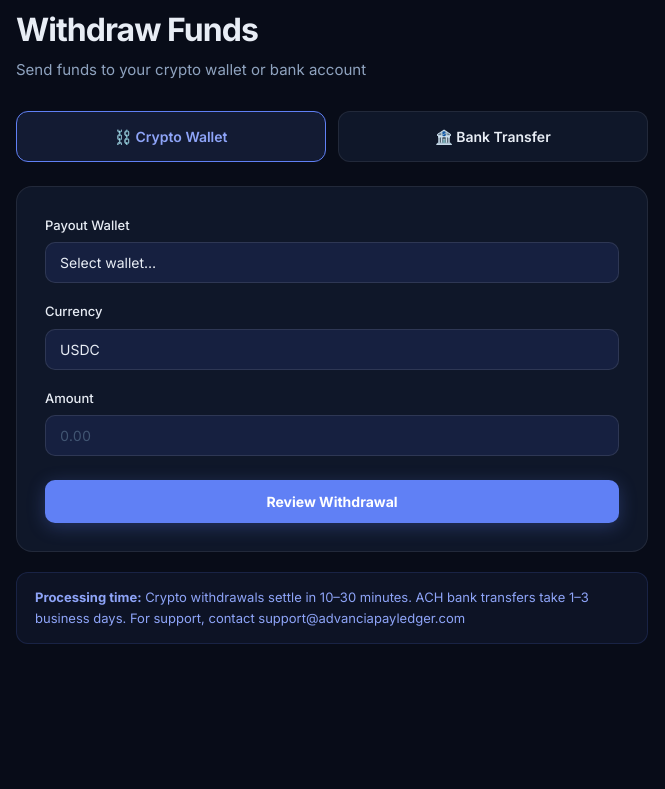
Test case: Withdraw › crypto form › validates missing amount
This screenshot has width=665, height=789.
// Select wallet
Step 1. Select "Main ETH — 0xabcdef…cdef12 (USDC) ★ Primary" in the dropdown below "Payout Wallet" → (332,263), box [45,242,619,283]
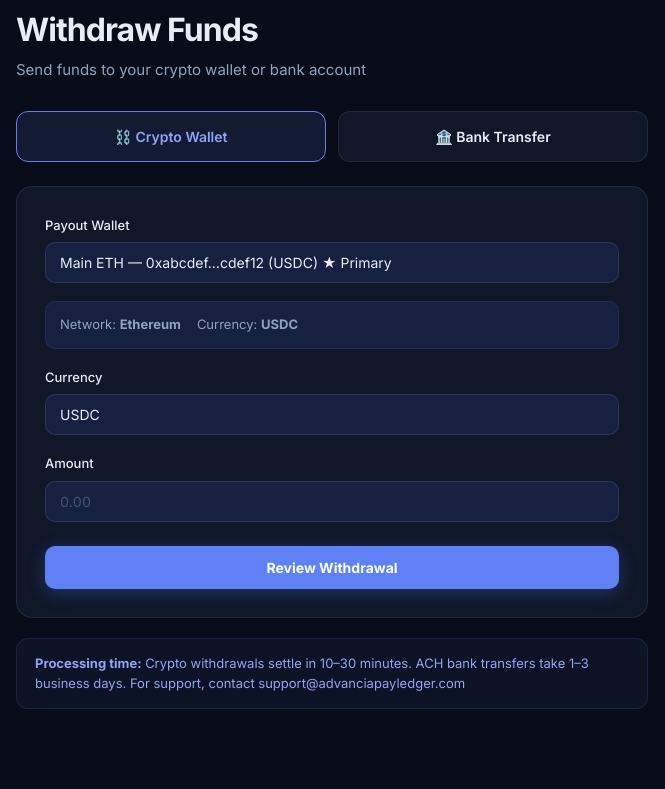
Step 2. Submit the form, box [16,186,648,618]
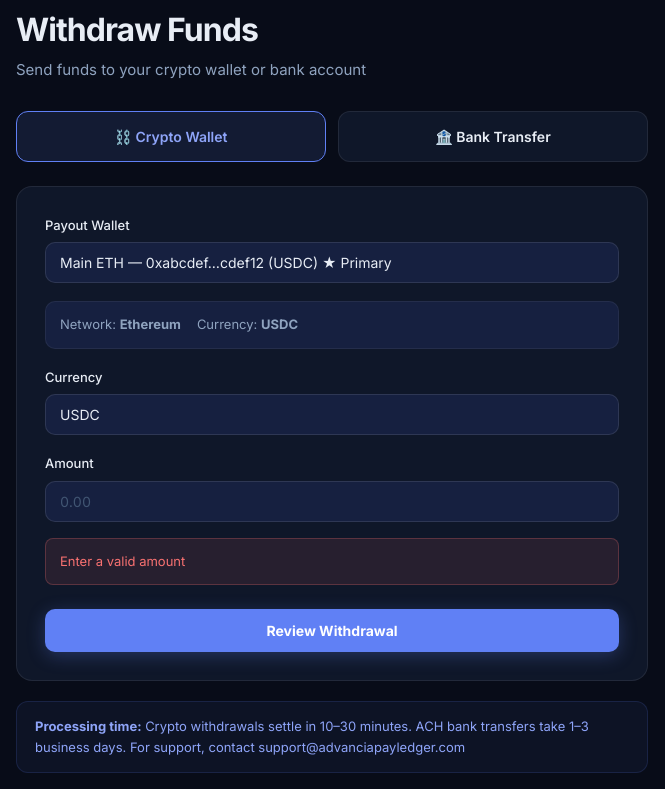
Check: the text "Enter a valid amount" is shown, box [45,538,619,585]
